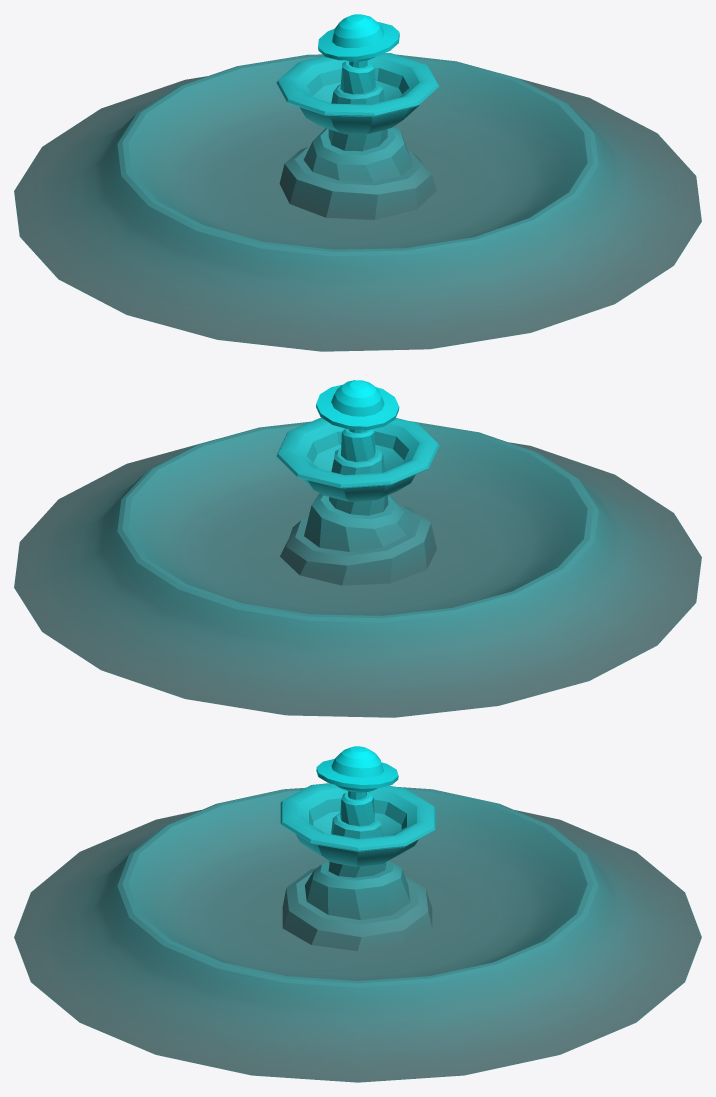
The model's file is Fountain.fbx.
3 views of the same model, one above another, from view 1: azimuth 30°, elevation 25°; view 2: azimuth 150°, elevation 25°; view 3: azimuth 270°, elevation 25° (orthographic).
Visible parts, largest first — view 1: pCylinder1, polySurface4, polySurface3, polySurface1, polySurface2; view 2: pCylinder1, polySurface4, polySurface3, polySurface1, polySurface2; view 3: pCylinder1, polySurface4, polySurface3, polySurface1, polySurface2.
Boxes of the visible parts, x1=… form: pCylinder1: x1=14, y1=54, x2=701, y2=351; polySurface4: x1=279, y1=127, x2=436, y2=219; polySurface3: x1=276, y1=53, x2=439, y2=134; polySurface1: x1=318, y1=14, x2=399, y2=61; polySurface2: x1=331, y1=60, x2=384, y2=104; pCylinder1: x1=14, y1=421, x2=701, y2=717; polySurface4: x1=280, y1=493, x2=436, y2=585; polySurface3: x1=276, y1=417, x2=439, y2=501; polySurface1: x1=316, y1=380, x2=399, y2=430; polySurface2: x1=331, y1=428, x2=385, y2=474; pCylinder1: x1=14, y1=787, x2=701, y2=1082; polySurface4: x1=282, y1=860, x2=432, y2=951; polySurface3: x1=280, y1=783, x2=435, y2=866; polySurface1: x1=316, y1=746, x2=398, y2=792; polySurface2: x1=331, y1=791, x2=383, y2=838.
Bounding box in the file's own units: 339 × 102 × 339.
1 material, 1 textured.
